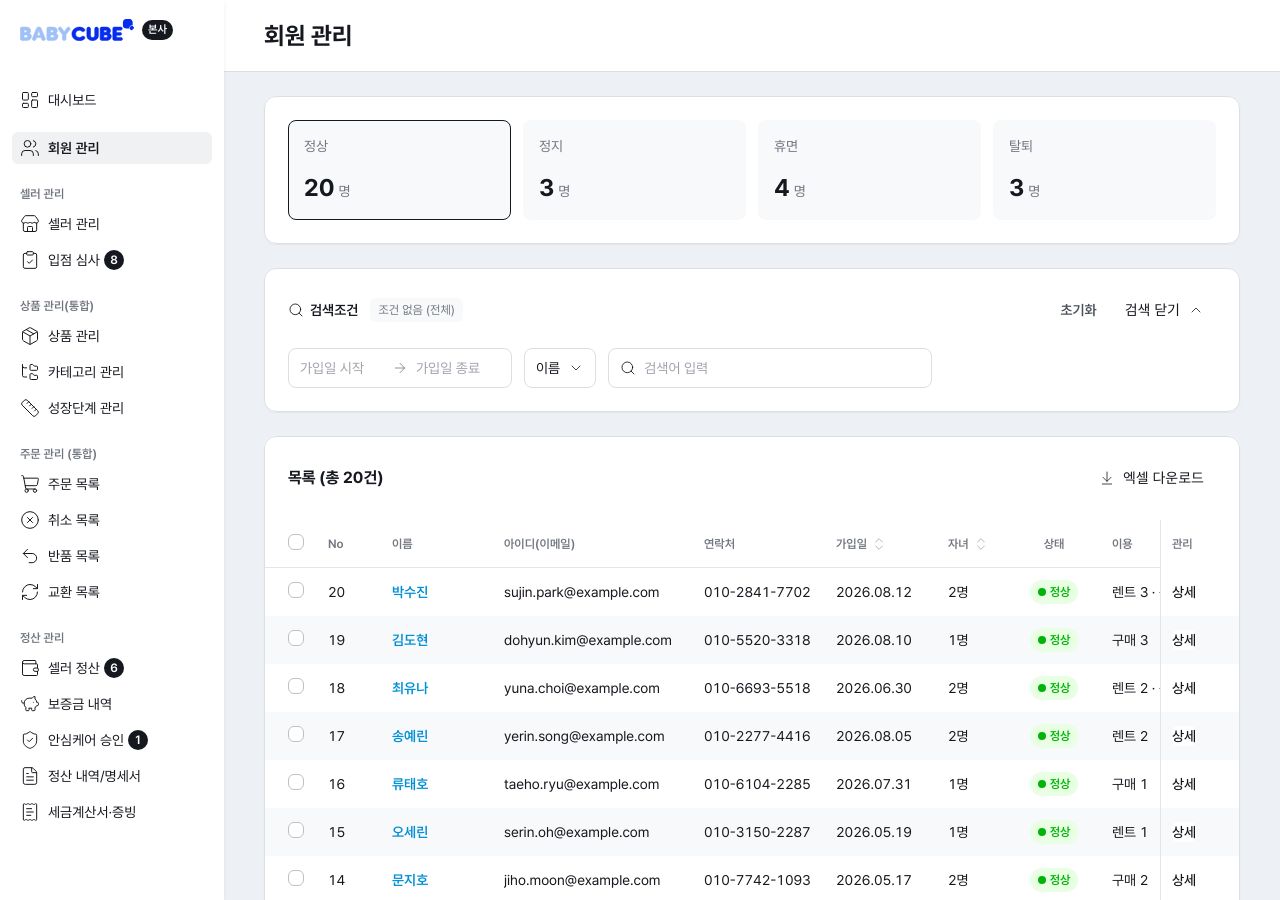
Test: MemberListPage (S02 회원 관리) › 상태 대시 — 원본 StatDash › 검색으로 좁히면 상태별 건수도 함께 줄어든다
Click the dropdown named "검색 조건": click(560, 368) [524,348,596,388]
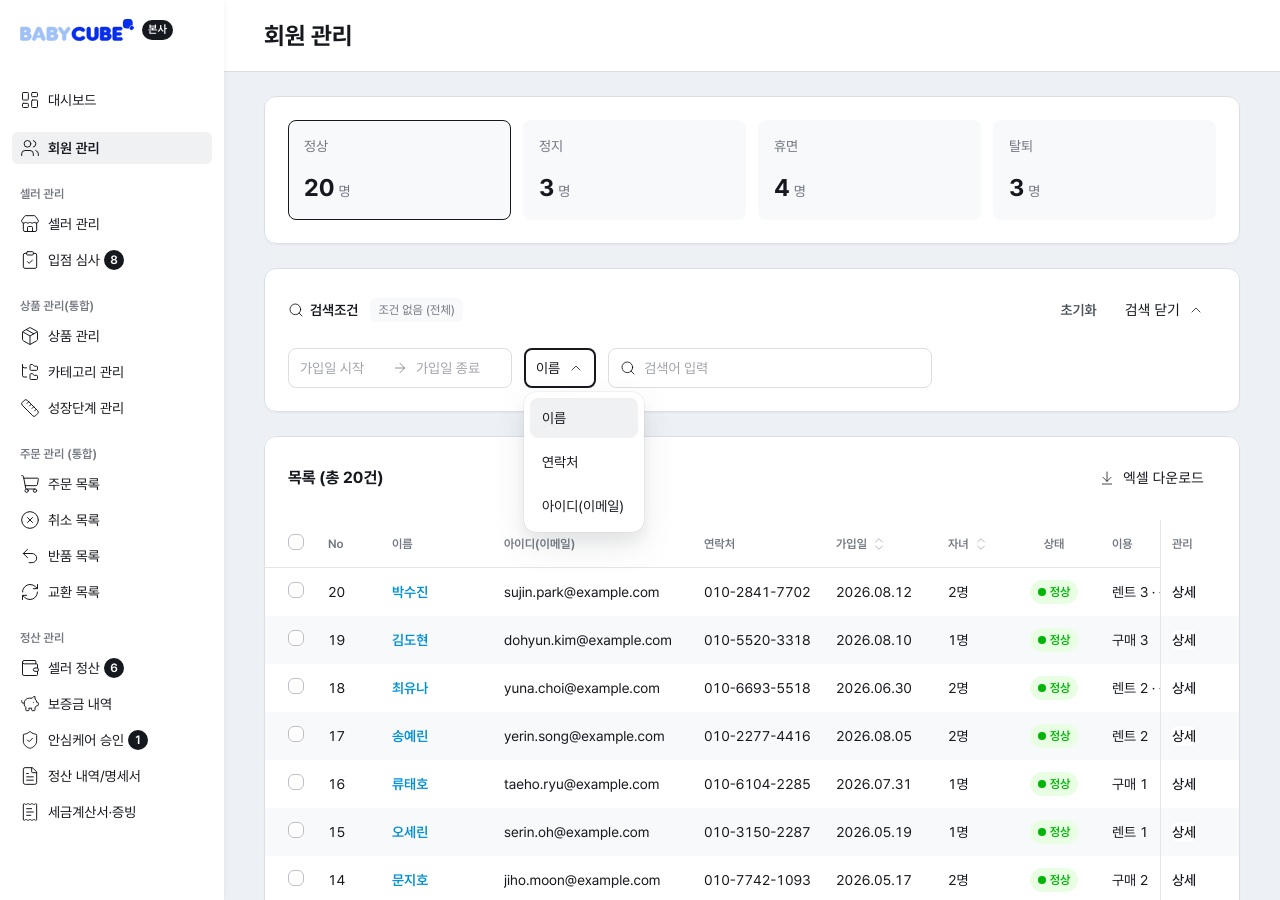
Click the option "아이디(이메일)": click(583, 506) [542,498,624,514]
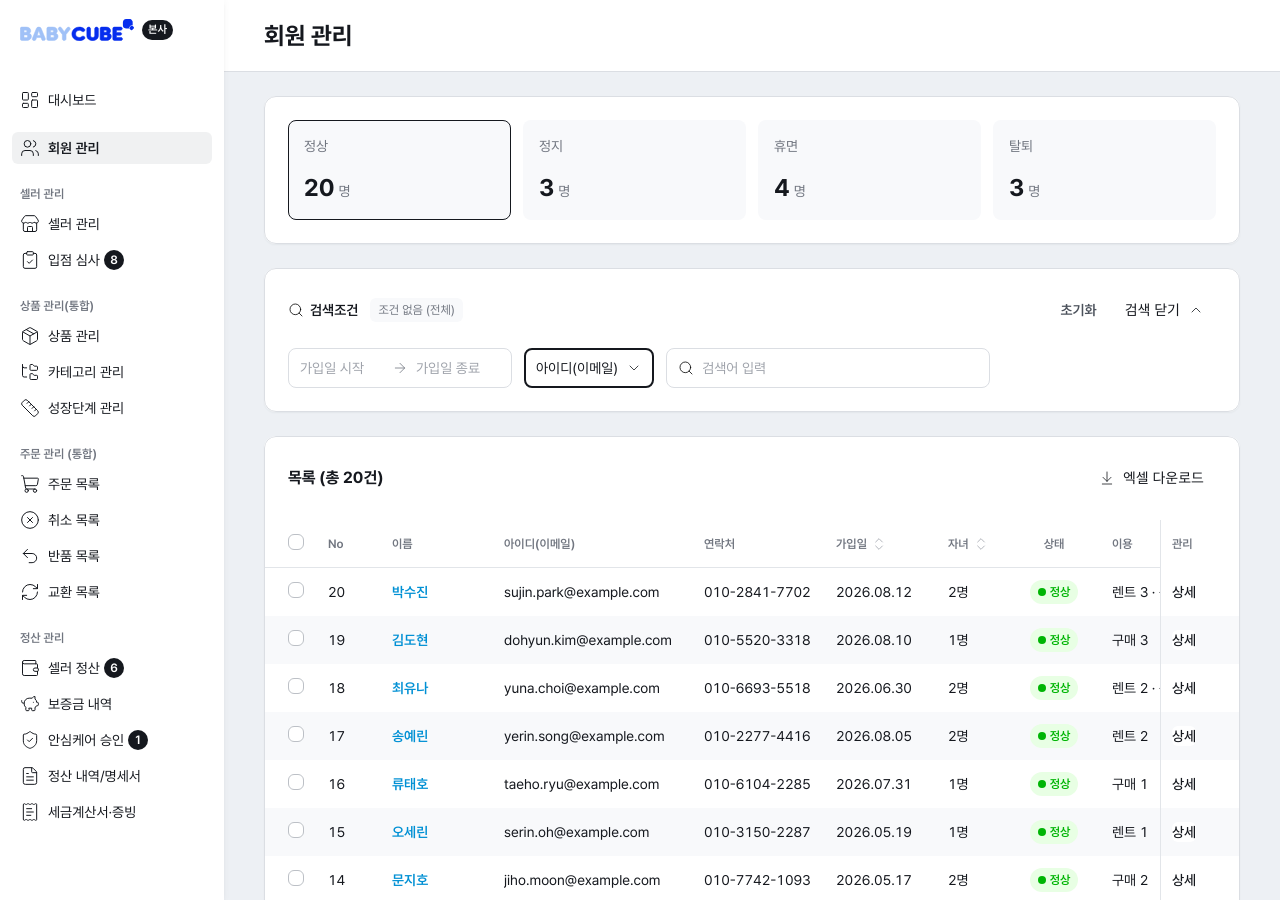
In the field: (840, 368) [702,356,978,380], type "haneul"
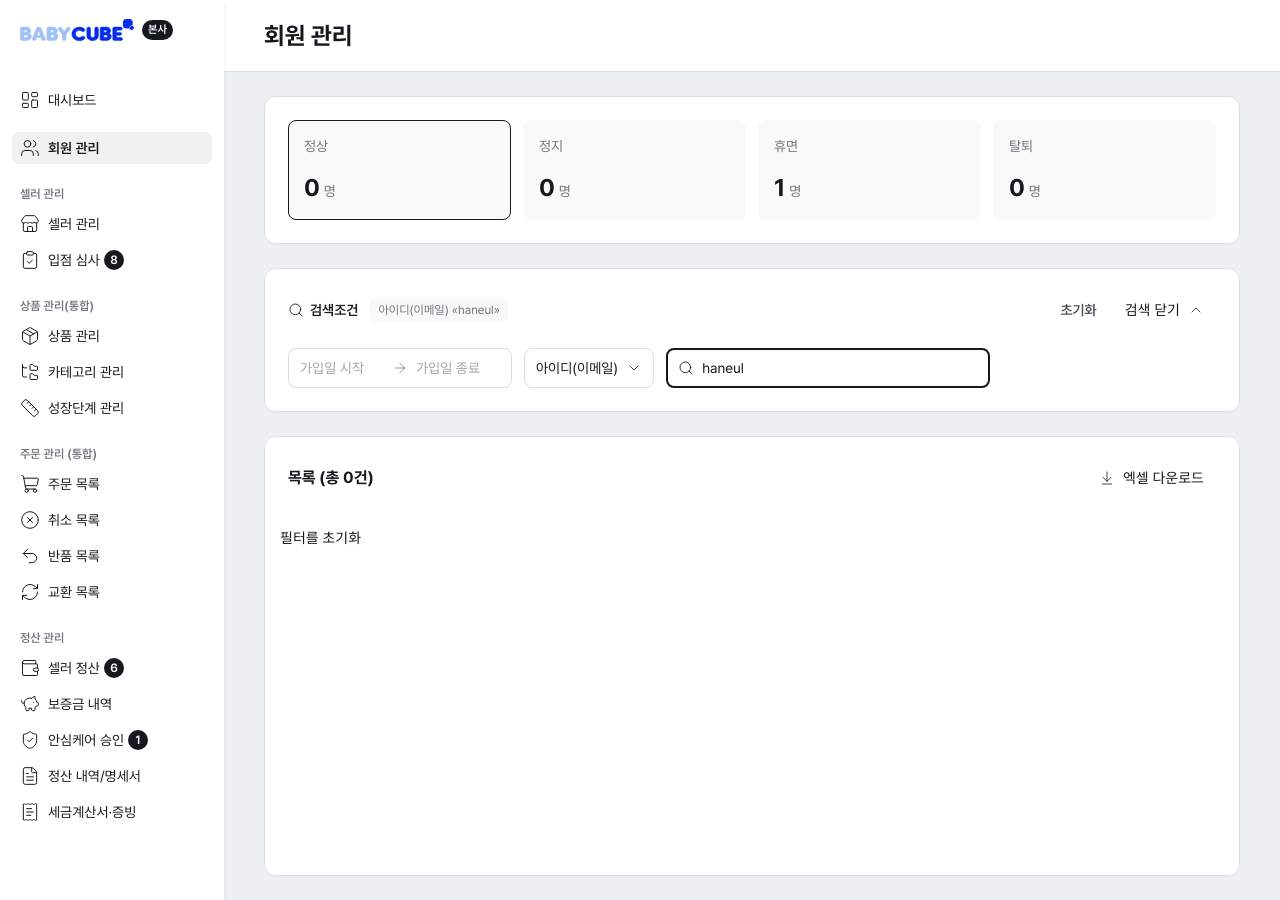
Expected: the button with aria-label "휴면 1명" is shown, [758,120,981,220]
Expected: the button with aria-label "정상 0명" is shown, [288,120,511,220]
Expected: the button with aria-label "탈퇴 0명" is shown, [993,120,1216,220]
